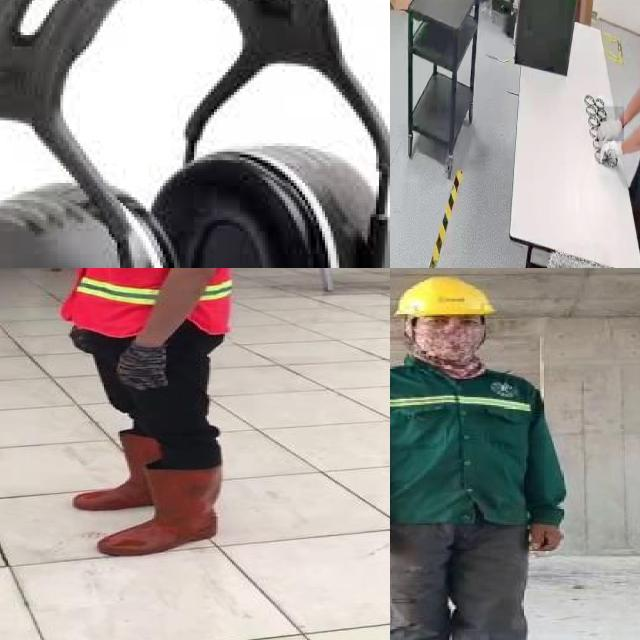Ear-protection: (154, 141, 390, 268)
boots: (70, 424, 198, 515), (99, 463, 221, 558)
face_mask: (409, 317, 485, 361)
hand_glove: (115, 344, 175, 389), (596, 133, 624, 168), (597, 107, 624, 141)
hand_noglove: (521, 514, 567, 556)
head_helmet: (390, 273, 504, 322)
person: (390, 268, 582, 640), (36, 268, 253, 567), (598, 6, 640, 268)
vest: (66, 268, 253, 335)
